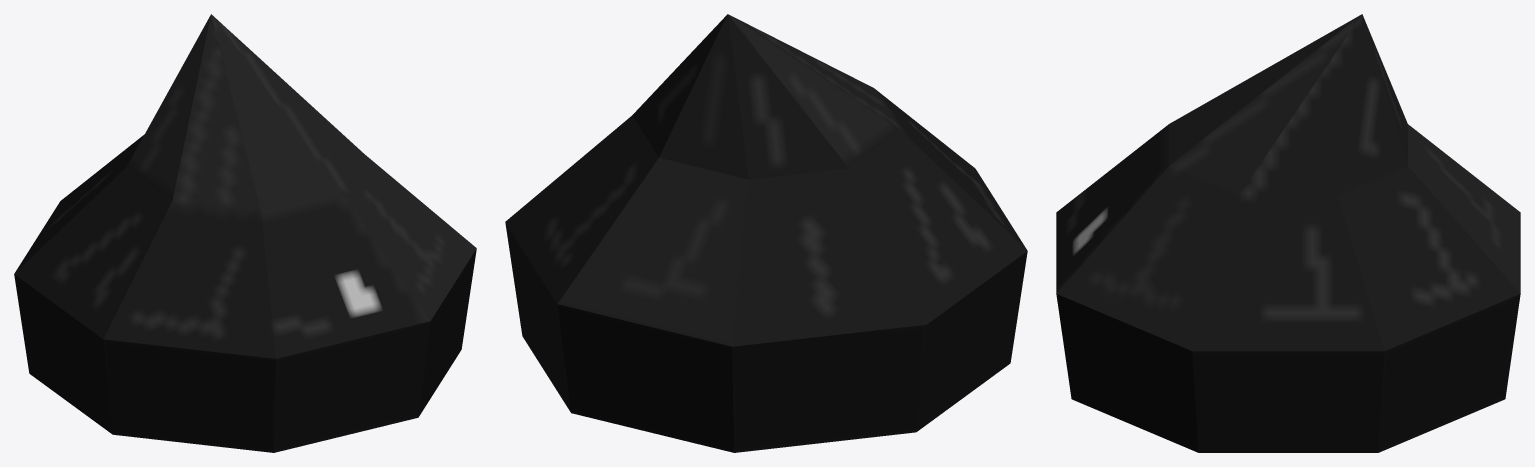
File: trash.fbx
3 renders of one model, left to right at view 1: azimuth 30°, elevation 25°; view 2: azimuth 150°, elevation 25°; view 3: azimuth 270°, elevation 25°, orthographic. The views are drawn at different scales.
Parts seen in each view (by area): view 1: sphere; view 2: sphere; view 3: sphere.
Part boxes in pixels (x1,y1,x2,y2): sphere: (14,14,476,452); sphere: (505,14,1027,452); sphere: (1056,14,1520,452).
Bounding box in the file's own units: 68.75 × 57.81 × 68.75.
Materials: 1 (1 with a texture image).
